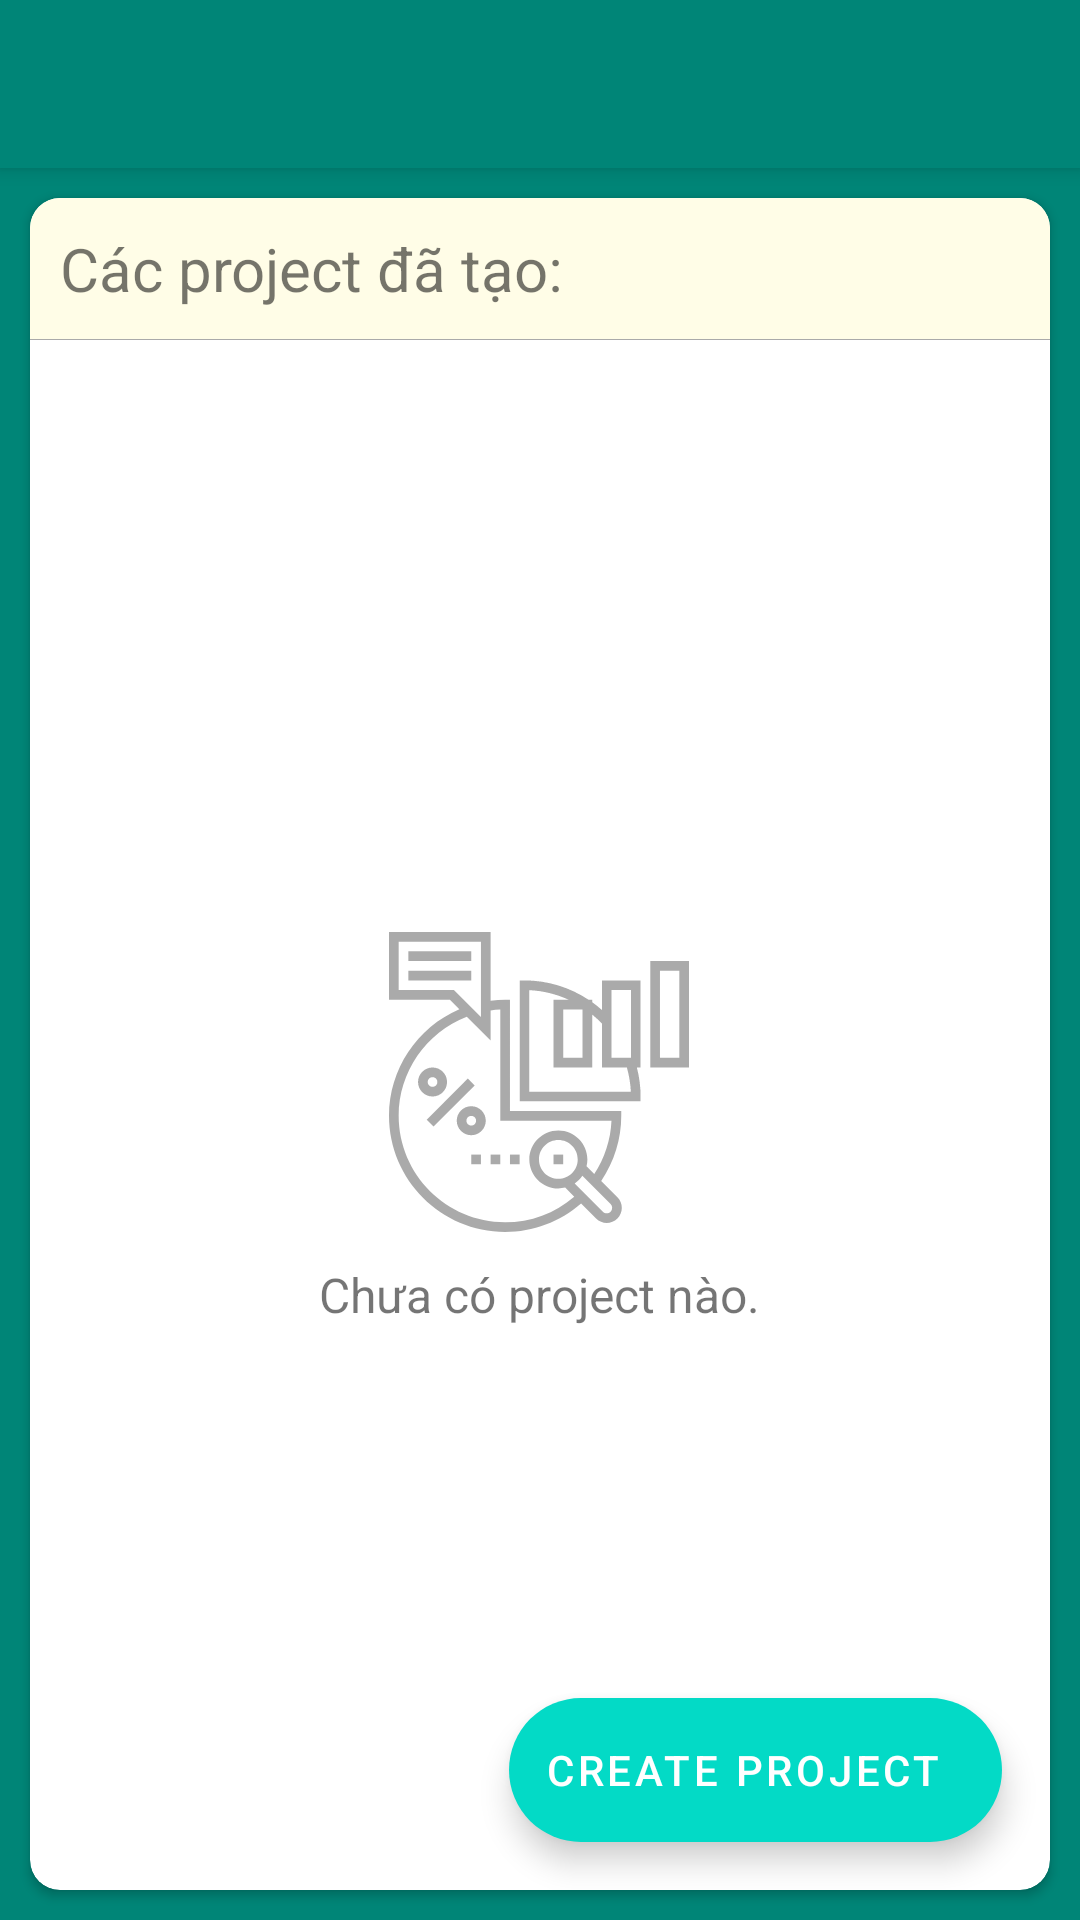

Where icons sit on this 1080 x 1920 app screen, as (x1, y1, x2, y2):
analytics: (389, 932, 689, 1232)
